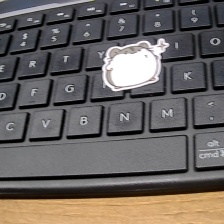mouse: (100, 34, 170, 94)
